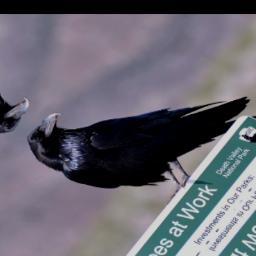Crow: (12, 32, 256, 228)
